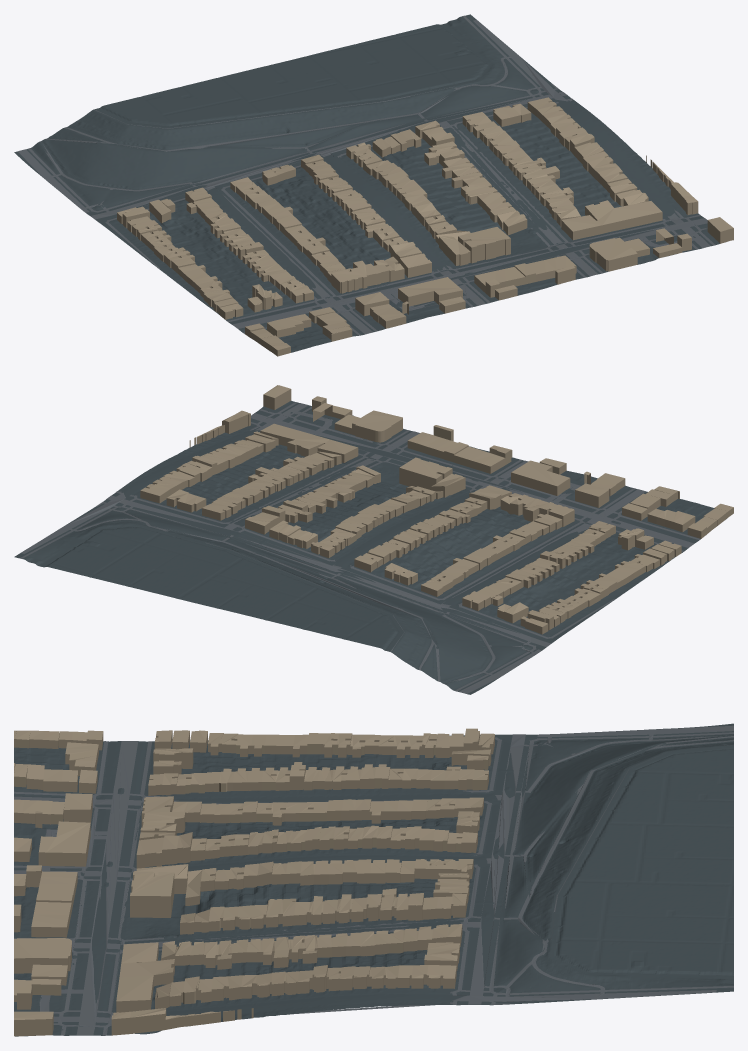
The model's file is epsg26910-1420-10881.lod0.glb.
The picture shows the model from 3 angles, top to bottom: view 1: azimuth 30°, elevation 25°; view 2: azimuth 150°, elevation 25°; view 3: azimuth 270°, elevation 25°; orthographic projection. The views are drawn at different scales.
Visible parts, largest first — view 1: epsg26910-1420-10881-lod0; view 2: epsg26910-1420-10881-lod0; view 3: epsg26910-1420-10881-lod0.
Boxes of the visible parts, box(x1,y1,x2,y2) form: epsg26910-1420-10881-lod0: box(14, 14, 733, 356); epsg26910-1420-10881-lod0: box(14, 385, 733, 694); epsg26910-1420-10881-lod0: box(14, 723, 733, 1036).
Size of the model in its own units: 384 by 32.1 by 384.
